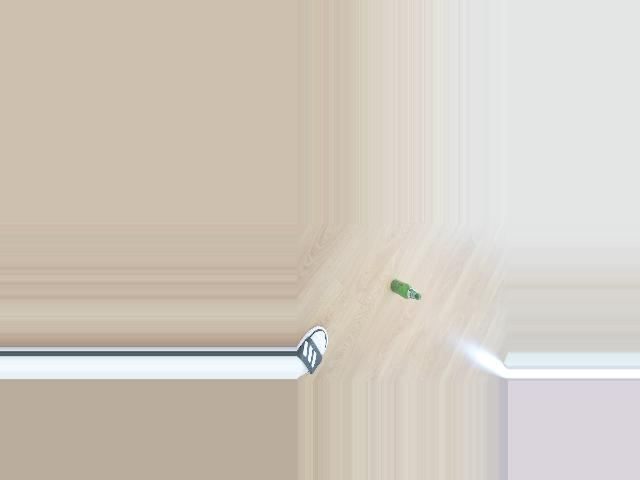beer: (390, 280, 420, 300)
